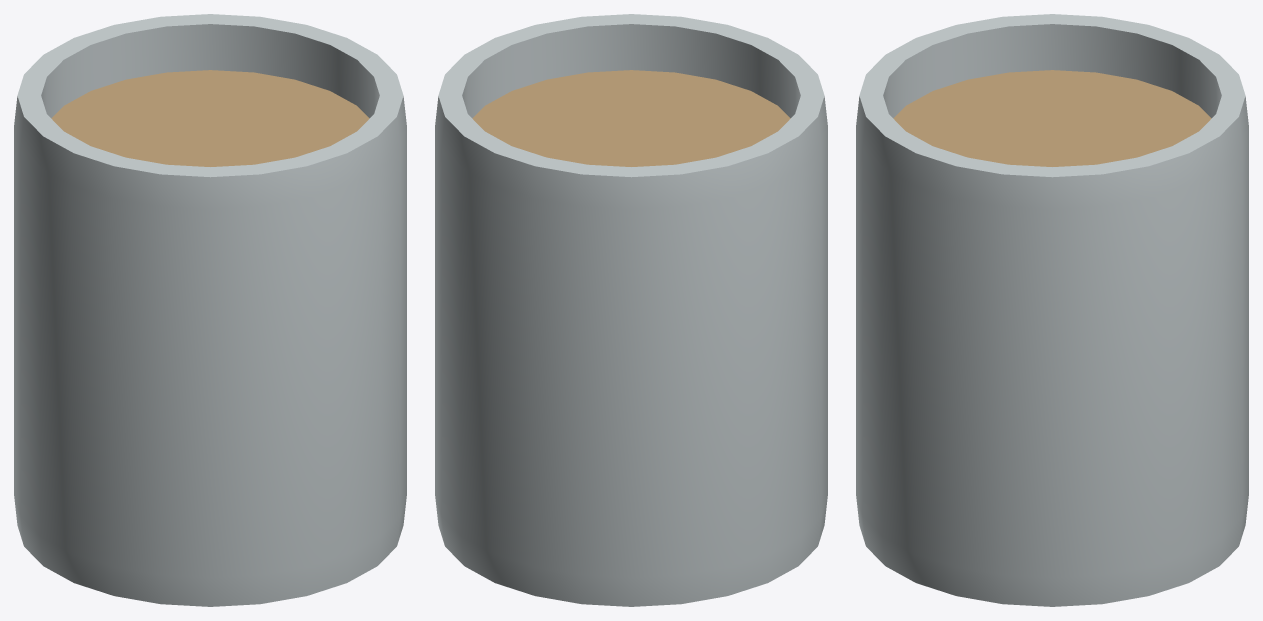
Rendered from geotechnical-soil-testing-laboratory-membrane-wrapped--85aecd64__39041.glb.
The picture shows the model from 3 angles, left to right: view 1: azimuth 30°, elevation 25°; view 2: azimuth 150°, elevation 25°; view 3: azimuth 270°, elevation 25°; orthographic projection.
Parts seen in each view (by area): view 1: membrane-wrapped-cylindrical-soil-specimen; view 2: membrane-wrapped-cylindrical-soil-specimen; view 3: membrane-wrapped-cylindrical-soil-specimen.
Boxes of the visible parts, x1,y1,x2,y2 form: membrane-wrapped-cylindrical-soil-specimen: [14, 14, 406, 606]; membrane-wrapped-cylindrical-soil-specimen: [435, 14, 827, 606]; membrane-wrapped-cylindrical-soil-specimen: [856, 14, 1248, 606].
Size of the model in its own units: 0.116 by 0.14 by 0.116.
